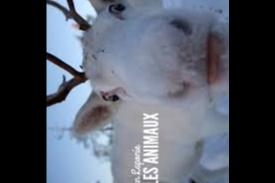Non_Gorille: (51, 0, 211, 183)
